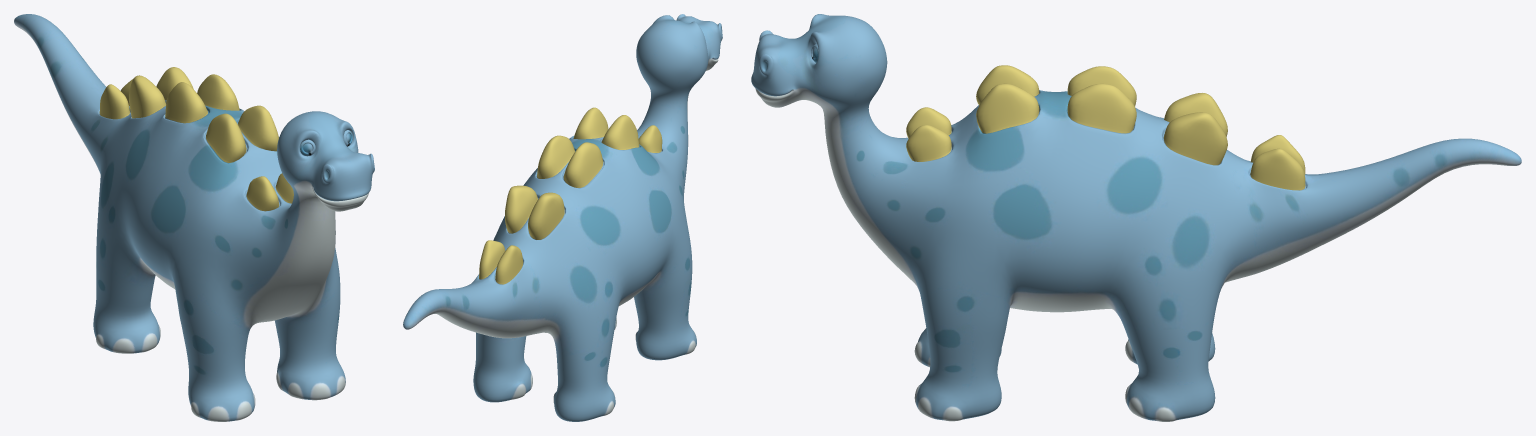
The model's file is Dinosaur.glb.
3 views of the same model, side by side, from view 1: azimuth 30°, elevation 25°; view 2: azimuth 150°, elevation 25°; view 3: azimuth 270°, elevation 25° (orthographic). The views are drawn at different scales.
Parts seen in each view (by area): view 1: Dinosaur.002; view 2: Dinosaur.002; view 3: Dinosaur.002.
Part boxes in pixels (x1=…): Dinosaur.002: x1=14, y1=14, x2=374, y2=421; Dinosaur.002: x1=403, y1=14, x2=722, y2=421; Dinosaur.002: x1=751, y1=14, x2=1521, y2=421.
Size of the model in its own units: 1.37 by 2.74 by 5.26.
Materials: 4 (4 with a texture image).
